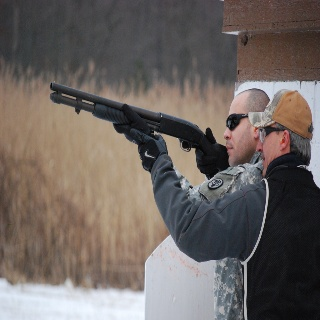shotgun: (48, 80, 230, 180)
